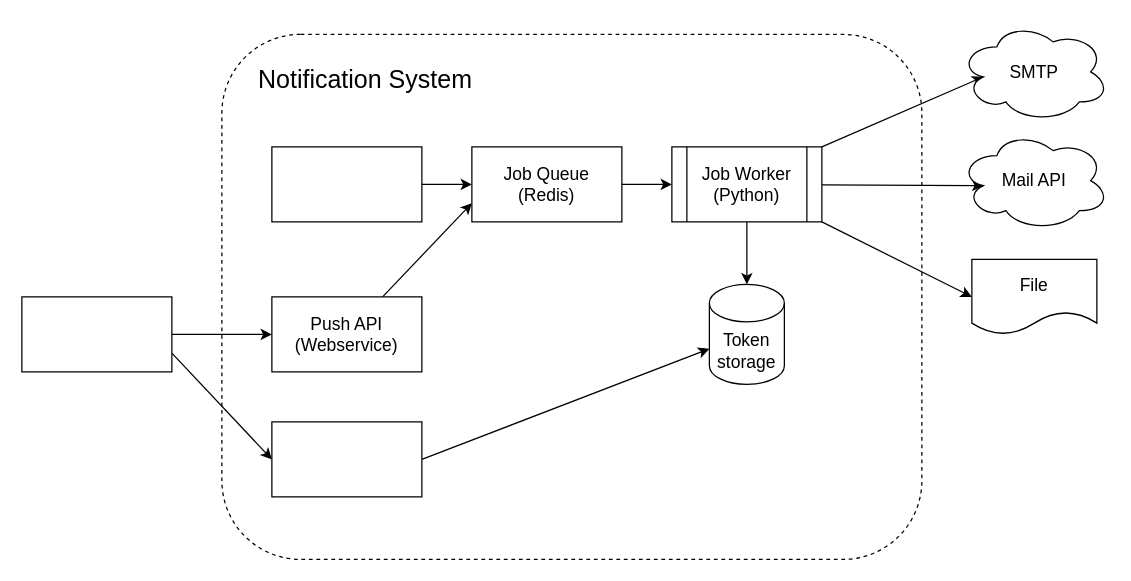
This 1131x581 diagram has some shape labels left out. Each missing label, with the box of its shape:
Client: (21, 296, 172, 372)
Poll API (Webservice): (271, 421, 422, 497)
Push API (Console): (271, 146, 422, 222)
